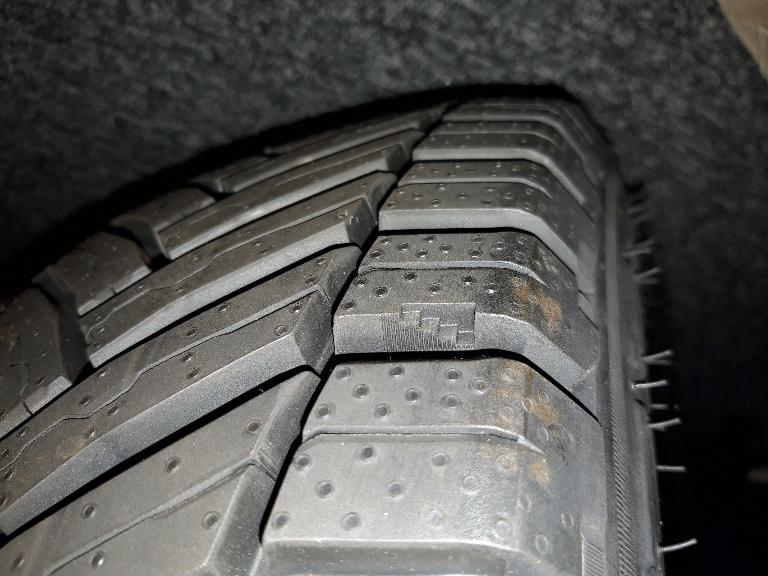temoin:100: (379, 300, 480, 354)
